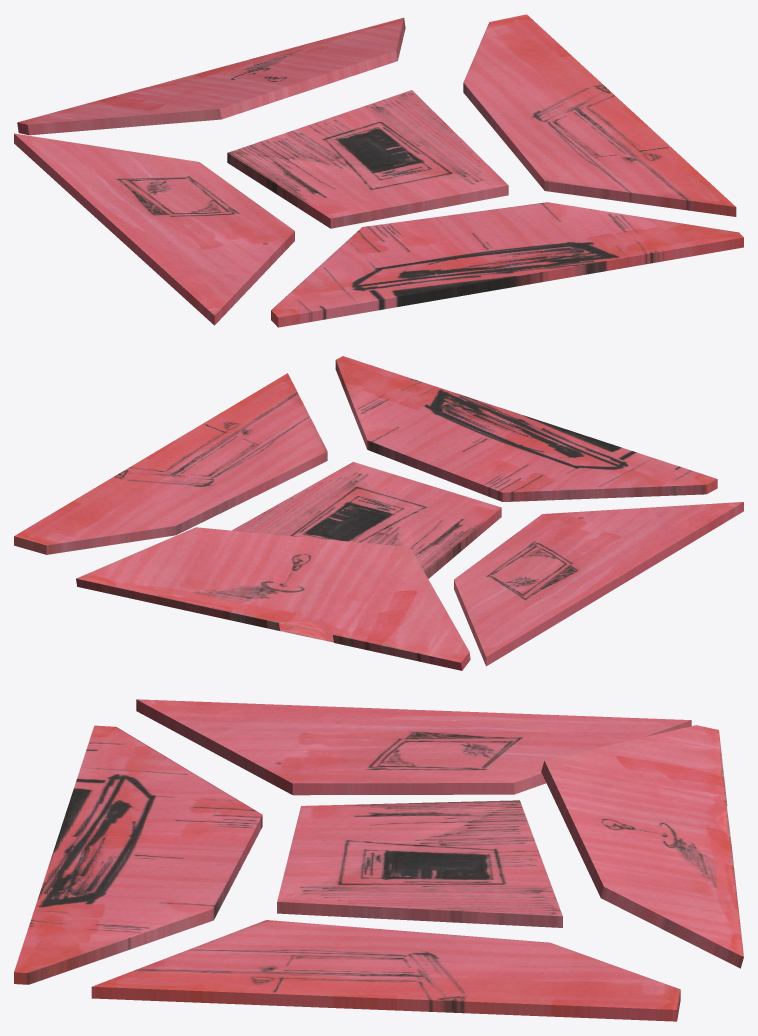
The model's file is final-state-3d.obj.
The picture shows the model from 3 angles, top to bottom: view 1: azimuth 30°, elevation 25°; view 2: azimuth 150°, elevation 25°; view 3: azimuth 270°, elevation 25°; orthographic projection. The views are drawn at different scales.
Parts seen in each view (by area): view 1: Cube.003, Cube.002, Cube.004, Cube, Cube.005; view 2: Cube.005, Cube.003, Cube.002, Cube.004, Cube; view 3: Cube.002, Cube.003, Cube.004, Cube.005, Cube.
Part boxes in pixels (x1,y1,x2,y2): Cube.003: (271, 202, 743, 327); Cube.002: (463, 14, 736, 216); Cube.004: (14, 133, 294, 325); Cube: (227, 90, 508, 228); Cube.005: (17, 17, 405, 135); Cube.005: (76, 527, 470, 670); Cube.003: (335, 356, 717, 501); Cube.002: (14, 373, 327, 554); Cube.004: (454, 502, 743, 666); Cube: (232, 462, 501, 578); Cube.002: (91, 920, 680, 1021); Cube.003: (14, 725, 262, 984); Cube.004: (136, 699, 691, 795); Cube.005: (541, 725, 743, 968); Cube: (277, 800, 562, 927).
Size of the model in its own units: 6.02 by 0.491 by 5.97.
Materials: 1 (1 with a texture image).
